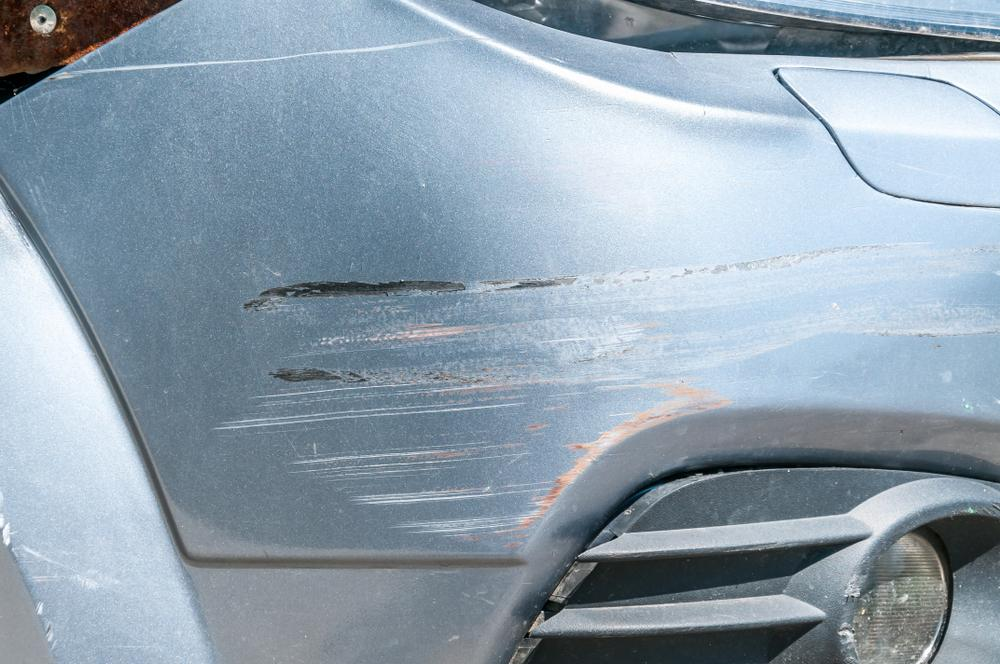scratch: (218, 242, 1000, 554), (41, 31, 476, 83)
